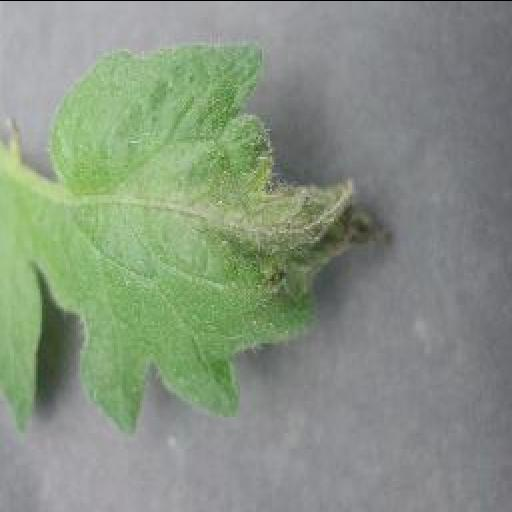disease_tomato: (0, 42, 396, 436)
